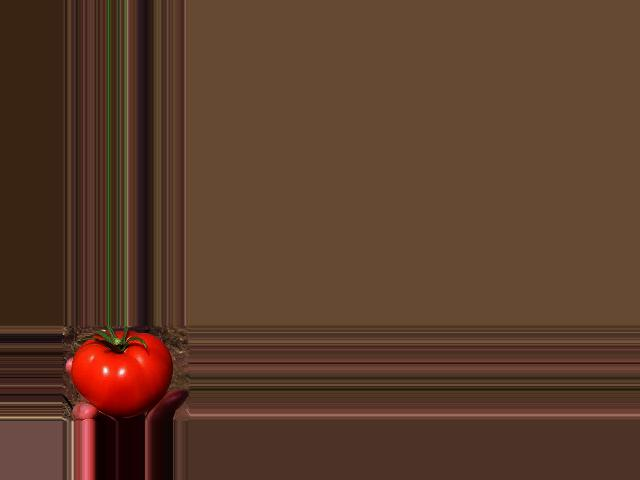tomato: (71, 331, 170, 417)
